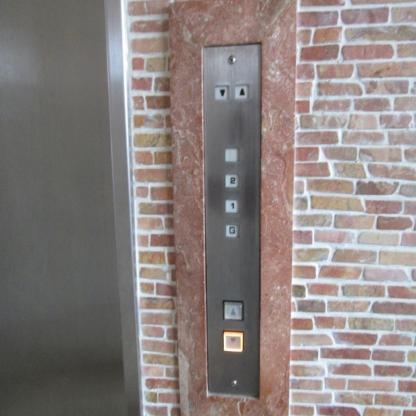1: (223, 197, 238, 213)
2: (223, 172, 238, 188)
G: (223, 222, 239, 238)
down: (221, 330, 244, 352), (212, 83, 228, 100)
empty: (223, 146, 237, 162)
up: (222, 298, 244, 321), (233, 82, 250, 100)
